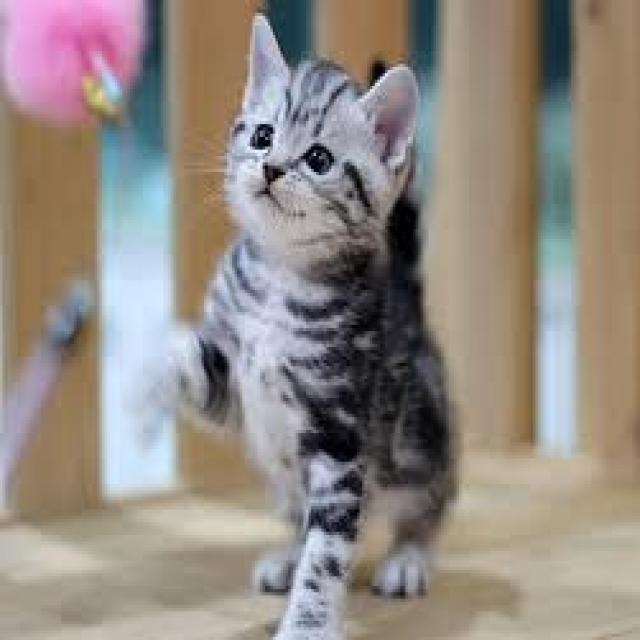cat-face: (153, 20, 466, 340)
